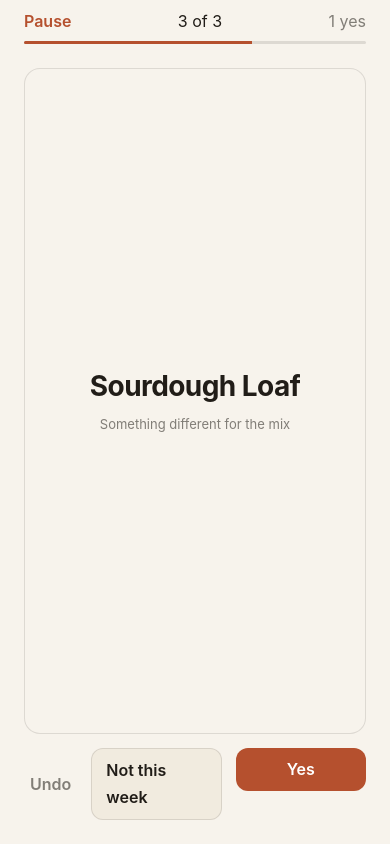
Test: seeds the undo stack from resumed decisions, oldest first, so Undo reverses the most recent one
Expected: the text "Sourdough Loaf" is shown, [90,368,300,402]
Expected: the text "1 yes" is shown, [328,8,366,35]
# r2 (yes, decided later) reverses first, back to the card it belonged to.
Click the button with test id "swipe-deck-undo" at (51, 784), box [24,762,77,806]
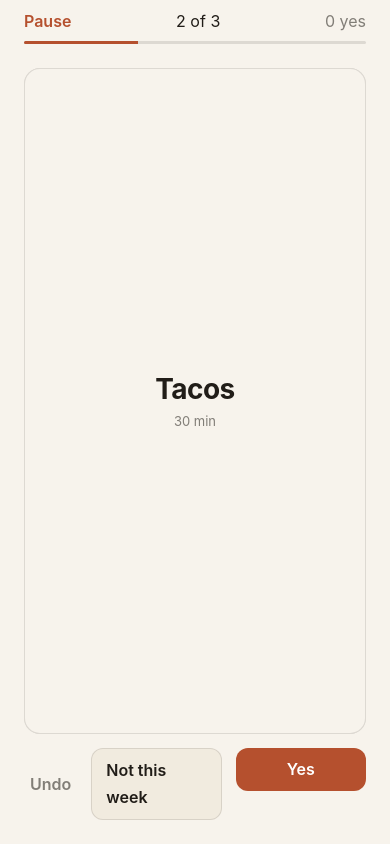
Expected: the text "Tacos" is shown, [155,372,235,406]
Expected: the text "0 yes" is shown, [325,8,366,35]
